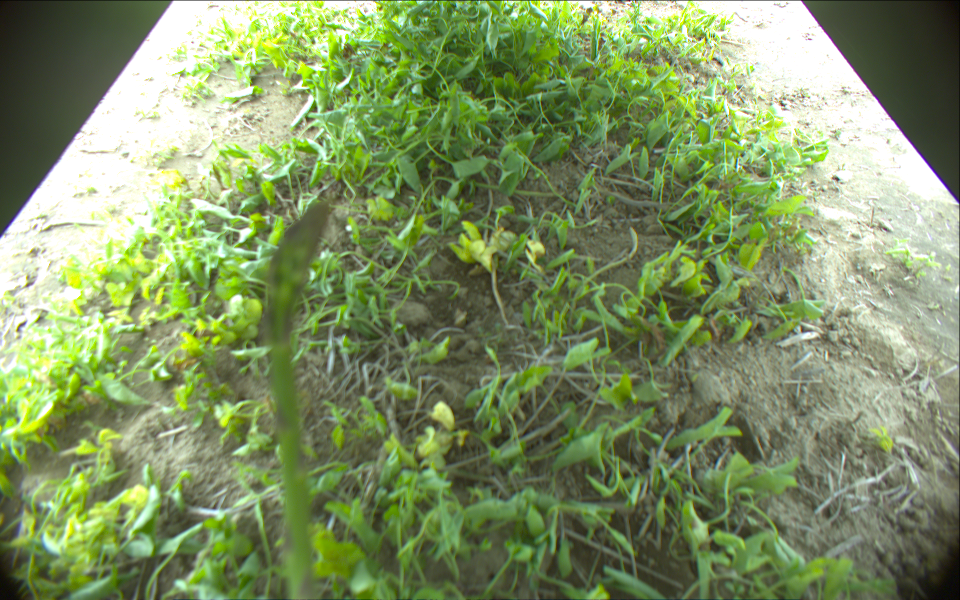aspa: (260, 200, 334, 600)
